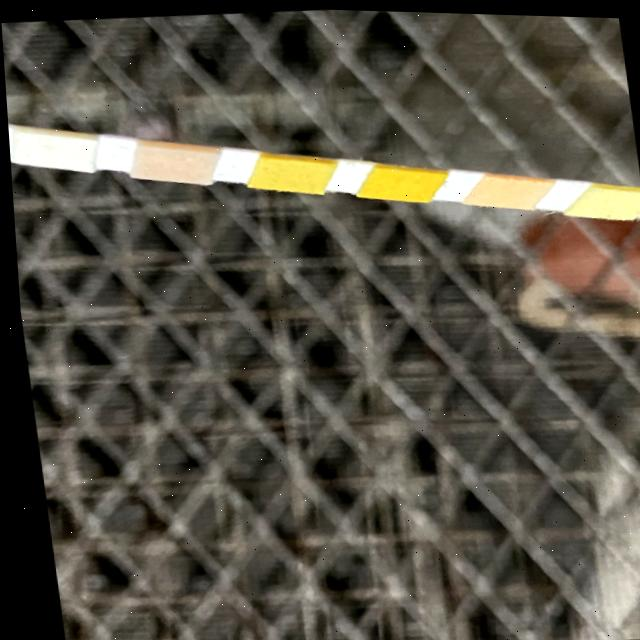Bilirubin: (14, 137, 93, 164)
Blood: (372, 165, 428, 197)
Ketone: (136, 148, 210, 179)
Protein: (590, 184, 633, 214)
SpGravity: (258, 158, 322, 187)
pH: (483, 176, 531, 202)
